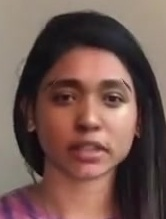eb_f: (42, 75, 132, 111)
